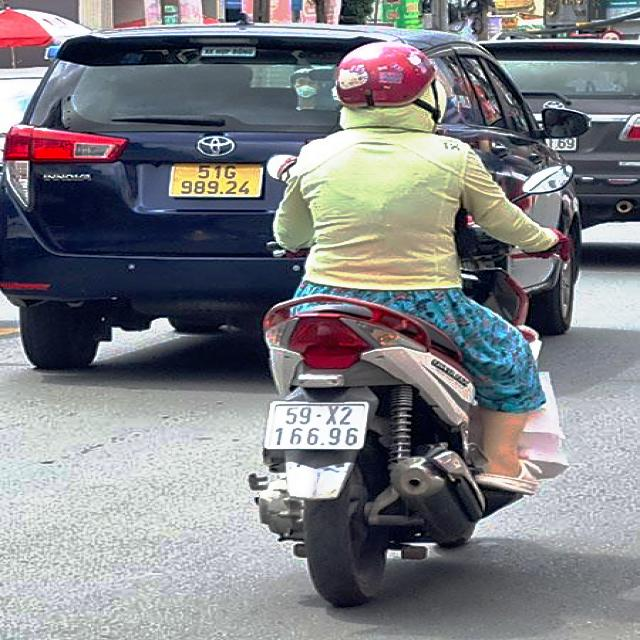license_plate: (268, 405, 369, 450), (171, 164, 261, 199)
